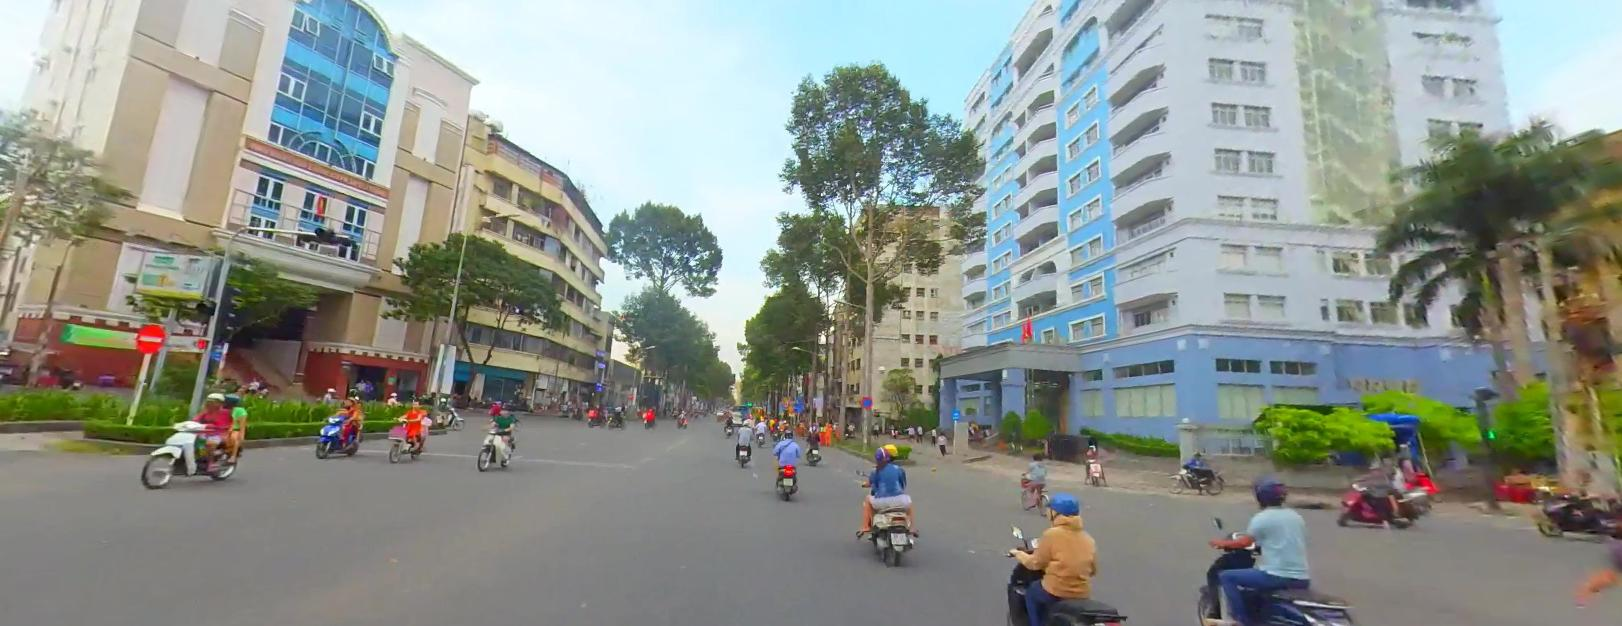Cam dung va do: (860, 394, 872, 407)
Cam nguoc chieu: (133, 322, 166, 353)
